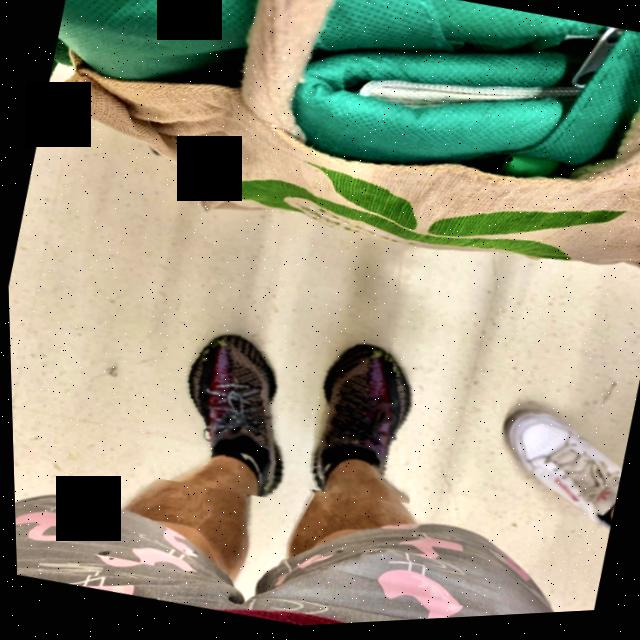shoe: (136, 307, 314, 508), (267, 324, 441, 517), (470, 394, 633, 564)
